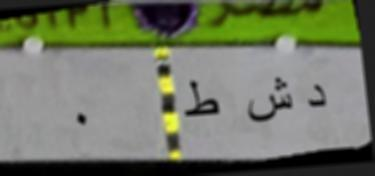0: (66, 102, 100, 144)
Taa: (176, 78, 225, 126)
daal: (300, 75, 330, 119)
sheen: (244, 74, 294, 134)
